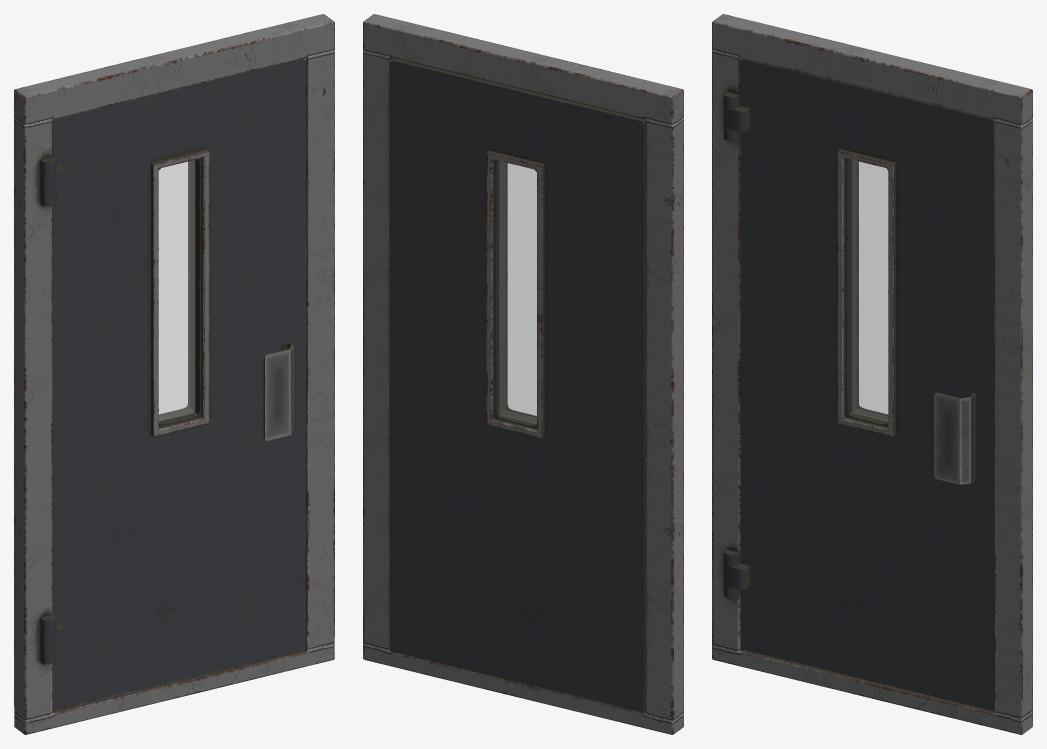
Rendered from elevator_door.glb.
The picture shows the model from 3 angles, left to right: view 1: azimuth 30°, elevation 25°; view 2: azimuth 150°, elevation 25°; view 3: azimuth 330°, elevation 25°; orthographic projection.
Visible parts, largest first — view 1: Door, 01_01_0, Glass, Door_4, Door_2; view 2: Door, 01_01_0, Glass; view 3: Door, 01_01_0, Glass, Door_2, Door_4.
Boxes of the visible parts, bbox=[...] form: Door: bbox=[52, 58, 306, 711]; 01_01_0: bbox=[14, 14, 334, 734]; Glass: bbox=[159, 160, 194, 421]; Door_4: bbox=[40, 623, 66, 652]; Door_2: bbox=[40, 166, 66, 194]; Door: bbox=[389, 58, 645, 712]; 01_01_0: bbox=[363, 14, 683, 734]; Glass: bbox=[499, 161, 536, 423]; Door: bbox=[740, 58, 994, 711]; 01_01_0: bbox=[712, 14, 1032, 734]; Glass: bbox=[852, 160, 887, 421]; Door_2: bbox=[723, 106, 750, 132]; Door_4: bbox=[723, 564, 750, 589].
Bounding box in the file's own units: 1.1 × 2.16 × 0.1443.
Materials: 2 (1 with a texture image).
